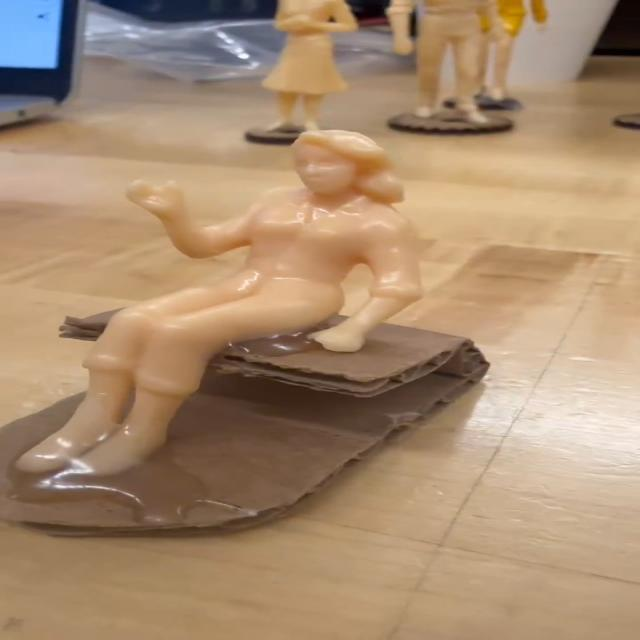Unauthorized: (39, 128, 428, 484)
